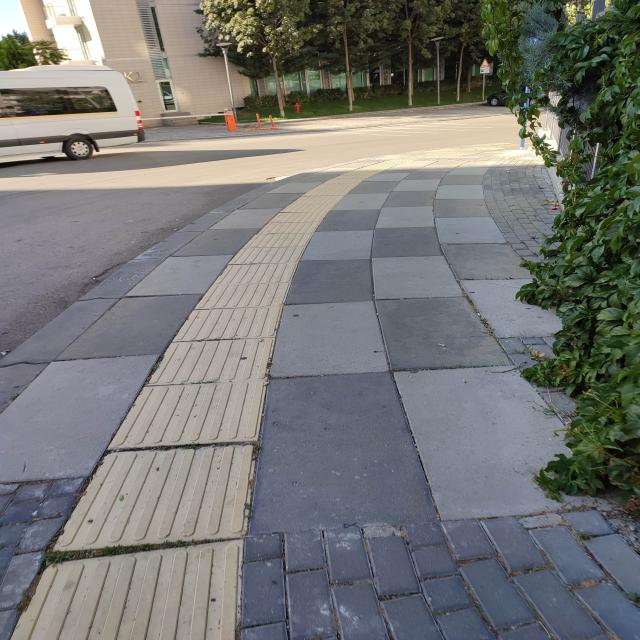sidewalk: (2, 144, 638, 640)
